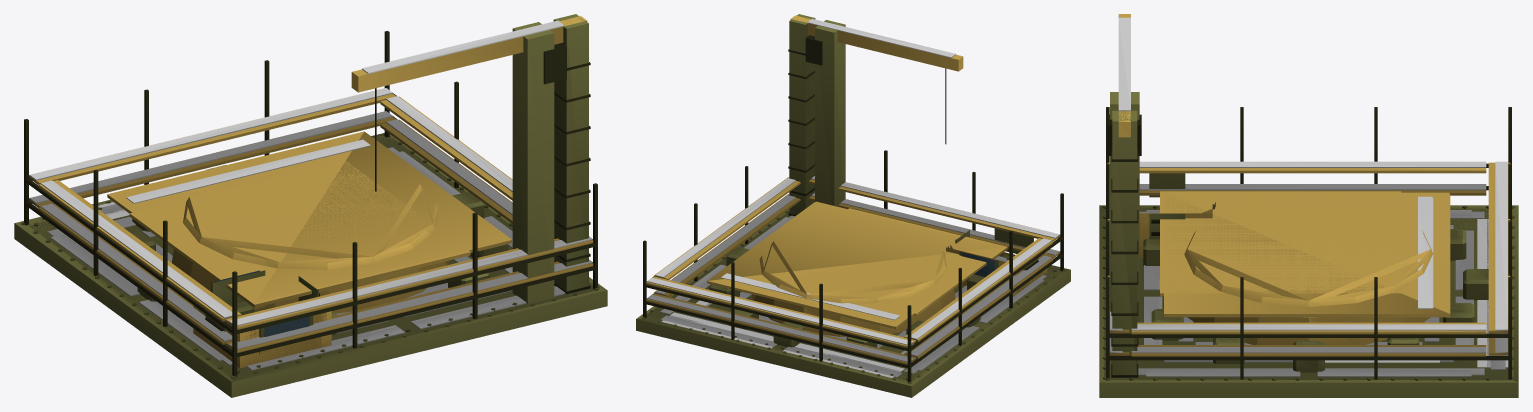
The model's file is meridian_advanced_defences_scaffolding.glb.
3 views of the same model, side by side, from view 1: azimuth 30°, elevation 25°; view 2: azimuth 150°, elevation 25°; view 3: azimuth 270°, elevation 25° (orthographic). The views are drawn at different scales.
Visible parts, largest first — view 1: body (×3); view 2: body (×3); view 3: body (×3).
Boxes of the visible parts, x1=… form: body (×3): x1=14, y1=14, x2=607, y2=397; body (×3): x1=636, y1=14, x2=1070, y2=397; body (×3): x1=1099, y1=14, x2=1518, y2=397.
Bounding box in the file's own units: 7.4 × 5.3 × 7.4.
